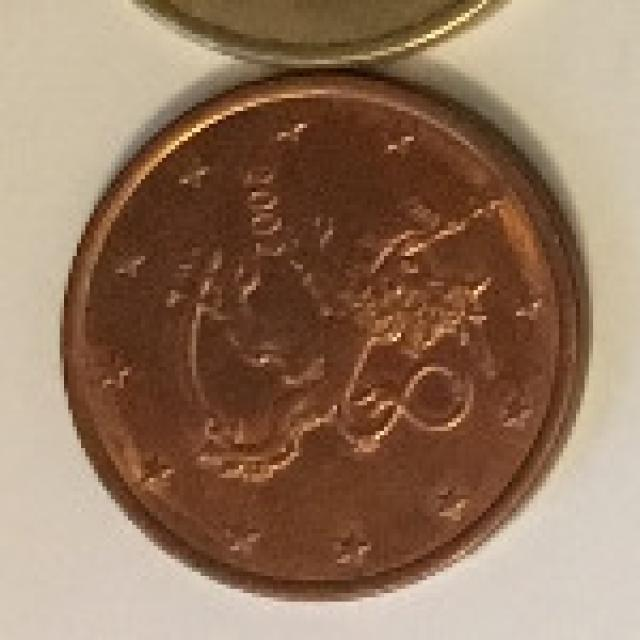5c: (43, 51, 593, 632)
